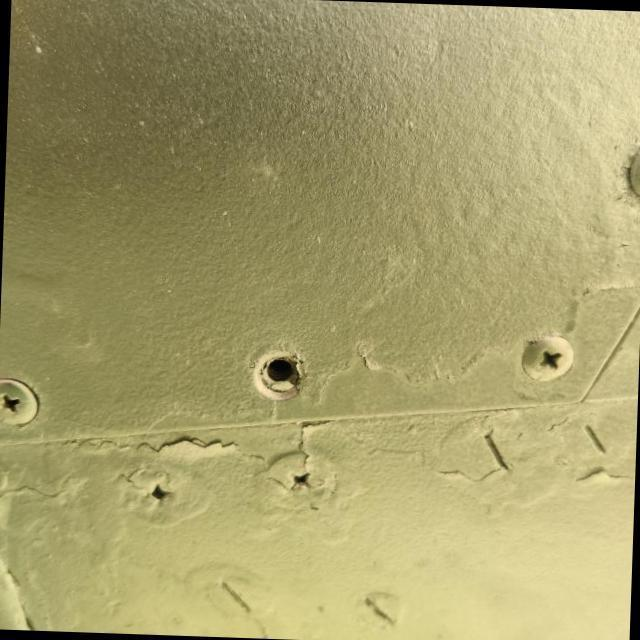Missing Fastener: (252, 350, 300, 400)
